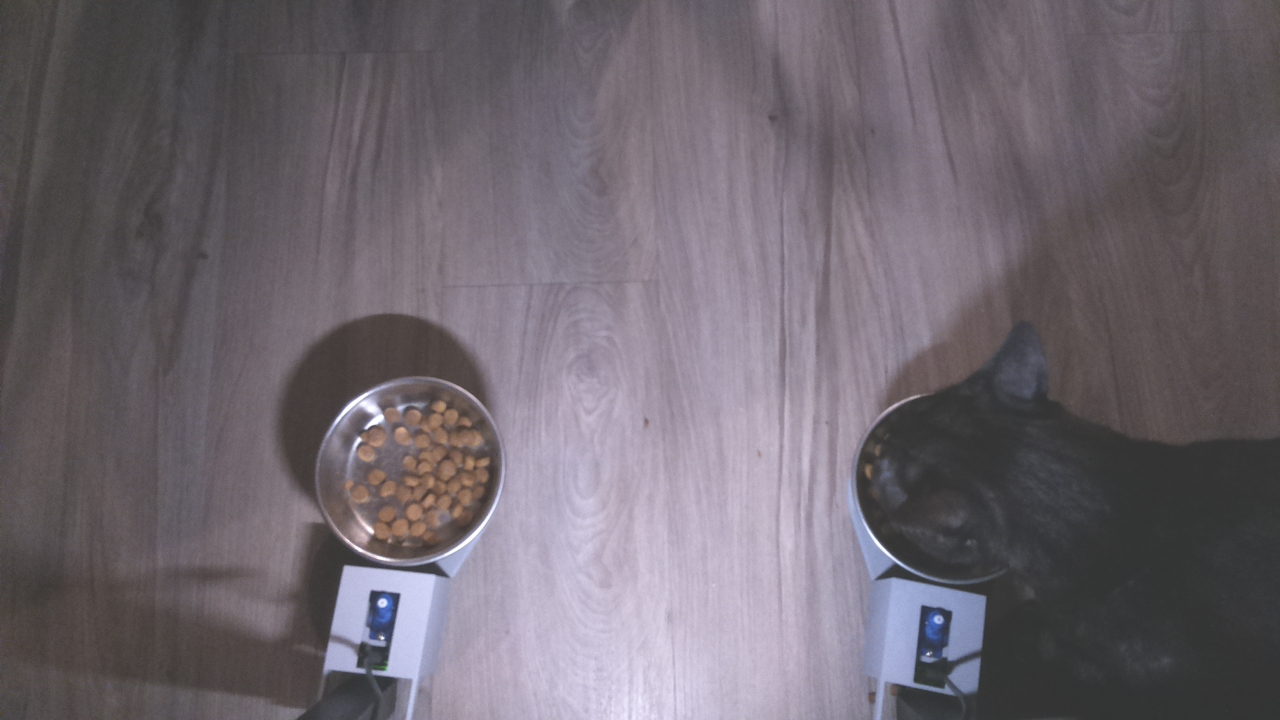open_bowl: (312, 371, 506, 573)
saki_eating: (844, 314, 1111, 592)
